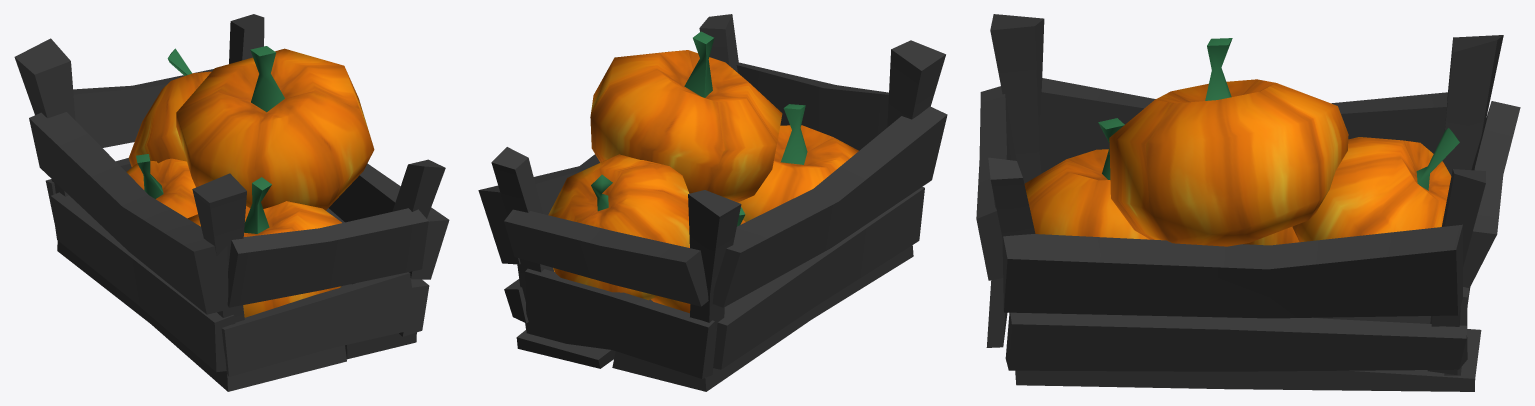
The model's file is SM_PROP_crate_03.FBX.
The picture shows the model from 3 angles, left to right: view 1: azimuth 30°, elevation 25°; view 2: azimuth 150°, elevation 25°; view 3: azimuth 270°, elevation 25°; orthographic projection. The views are drawn at different scales.
Visible parts, largest first — view 1: SM_PROP_crate_03; view 2: SM_PROP_crate_03; view 3: SM_PROP_crate_03.
Boxes of the visible parts, bbox=[...] form: SM_PROP_crate_03: bbox=[14, 14, 449, 391]; SM_PROP_crate_03: bbox=[478, 14, 947, 391]; SM_PROP_crate_03: bbox=[976, 14, 1520, 391].
Bounding box in the file's own units: 64.5 × 89.13 × 55.36.
